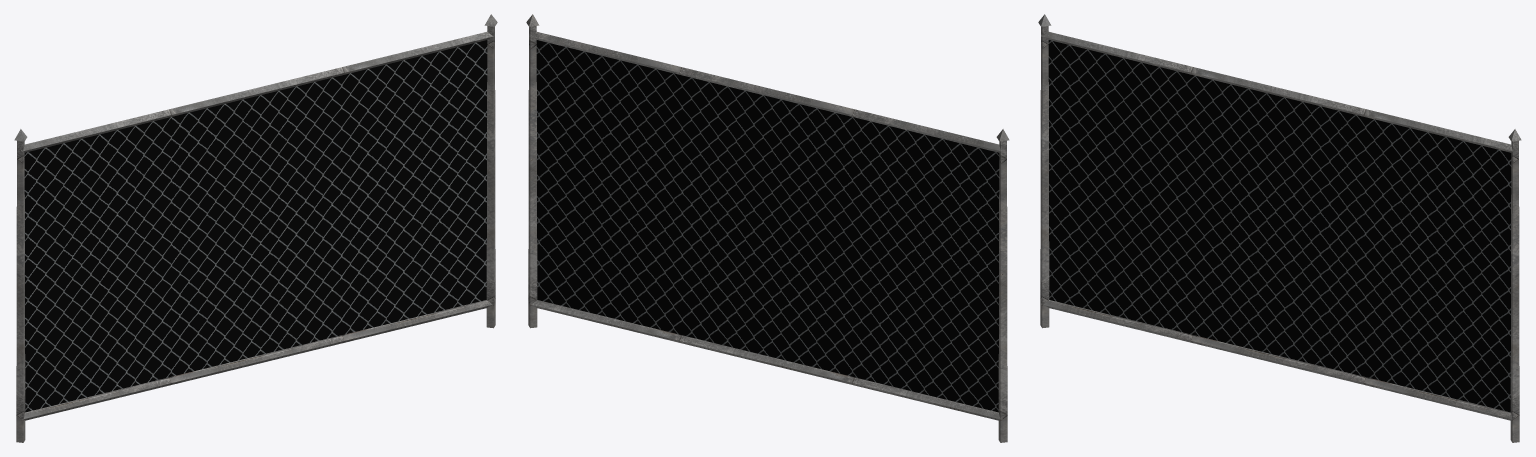
File: Fence.dae
3 renders of one model, left to right at view 1: azimuth 30°, elevation 25°; view 2: azimuth 150°, elevation 25°; view 3: azimuth 330°, elevation 25°, orthographic.
Visible parts, largest first — view 1: Fence; view 2: Fence; view 3: Fence.
Boxes of the visible parts, x1=… form: Fence: x1=14, y1=14, x2=497, y2=442; Fence: x1=526, y1=14, x2=1009, y2=442; Fence: x1=1038, y1=14, x2=1521, y2=442.
Size of the model in its own units: 3.89 by 0.1067 by 2.4.
Materials: 2 (2 with a texture image).
